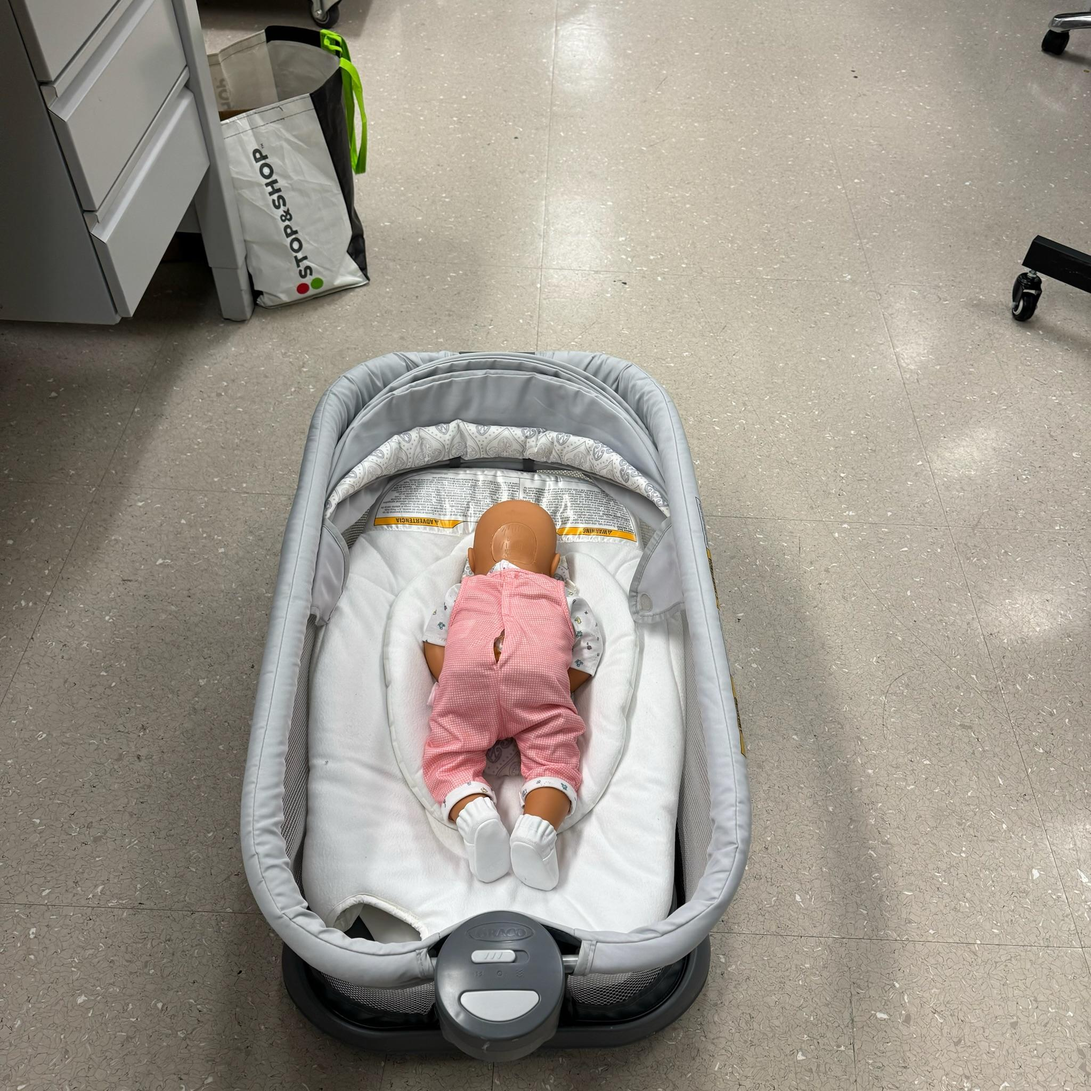baby: (405, 495, 614, 896)
